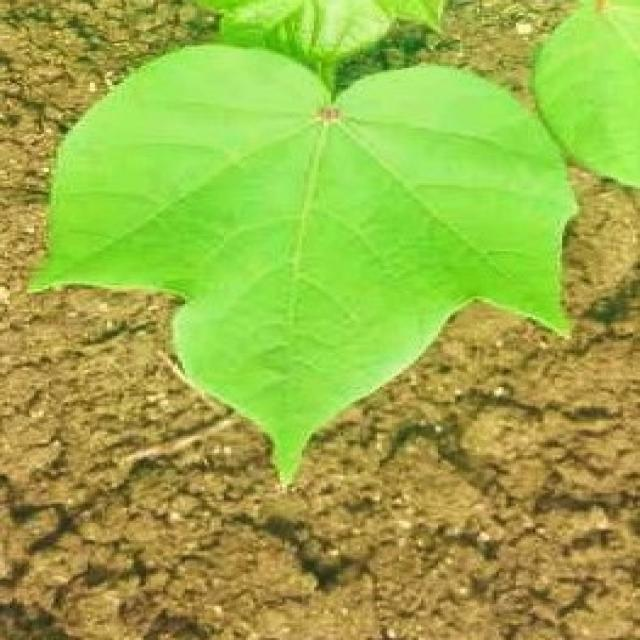Healthy Leaf: (70, 44, 527, 366)
